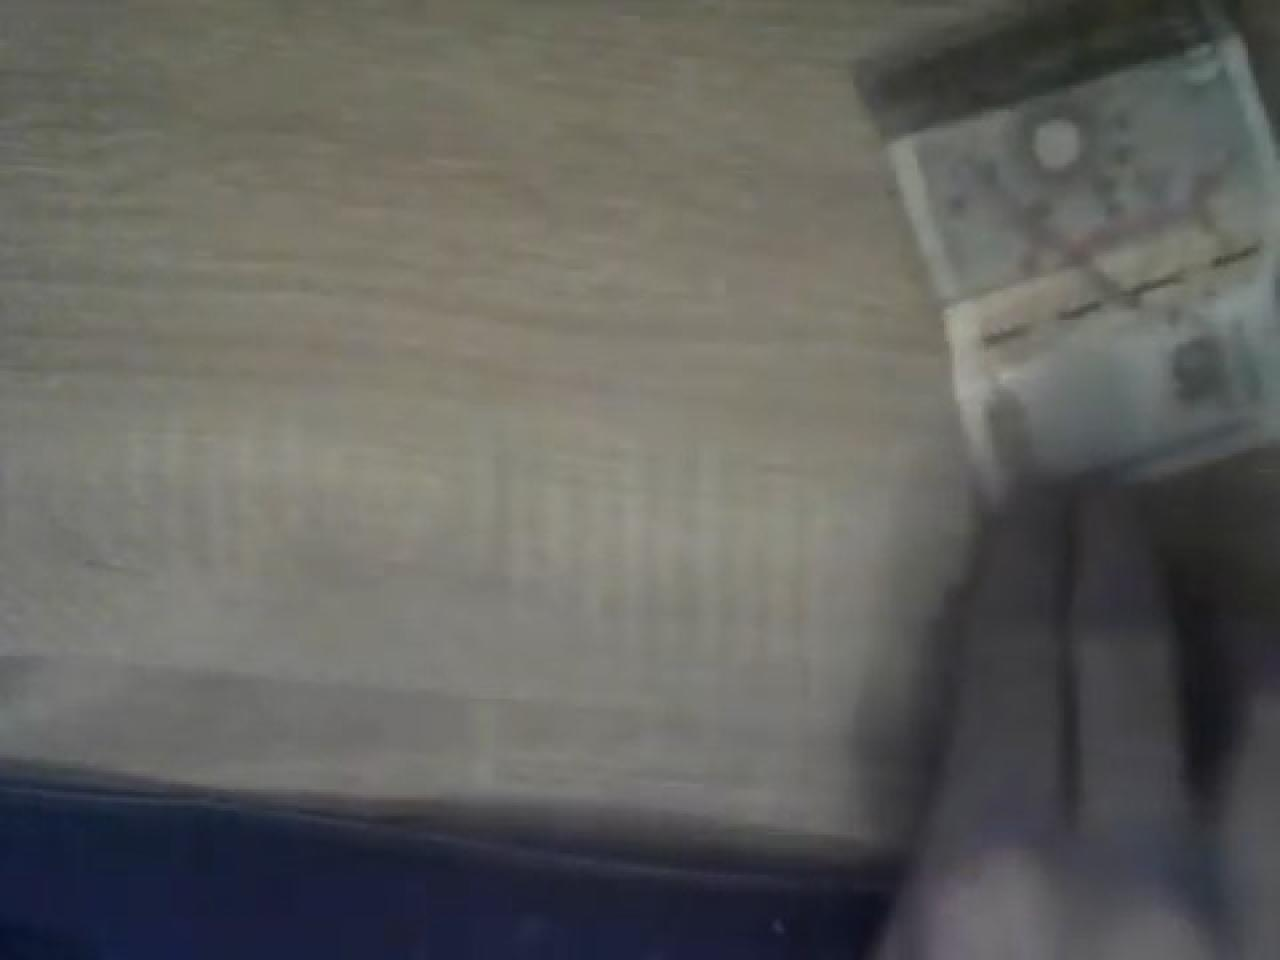10leva: (854, 0, 1280, 550)
